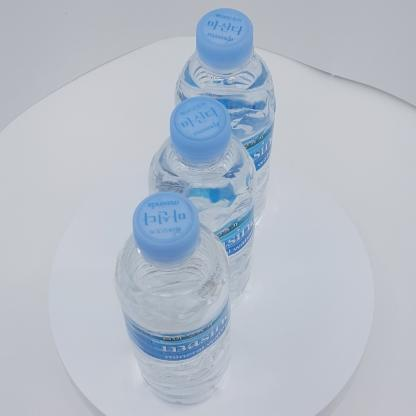-------------500ML: (115, 191, 231, 404), (148, 96, 257, 310), (174, 8, 276, 228)
